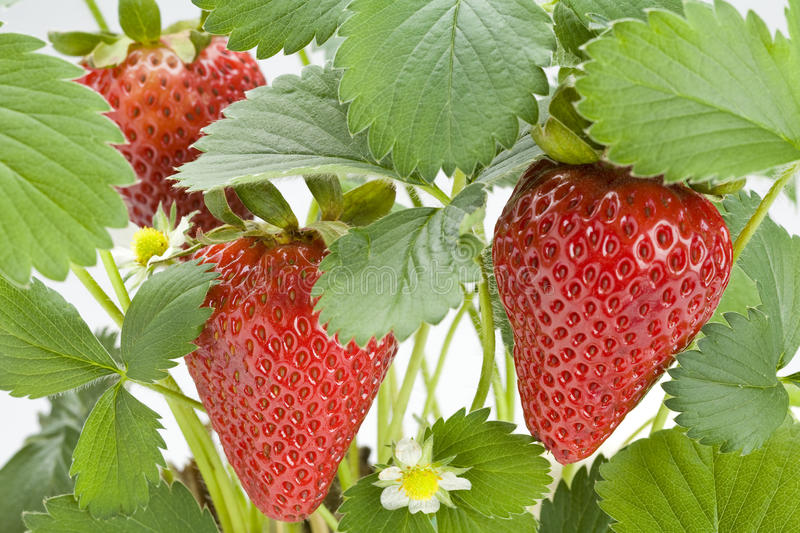ripe: (488, 138, 741, 473), (169, 206, 408, 522), (70, 30, 307, 238)
unripe: (129, 220, 183, 273)
